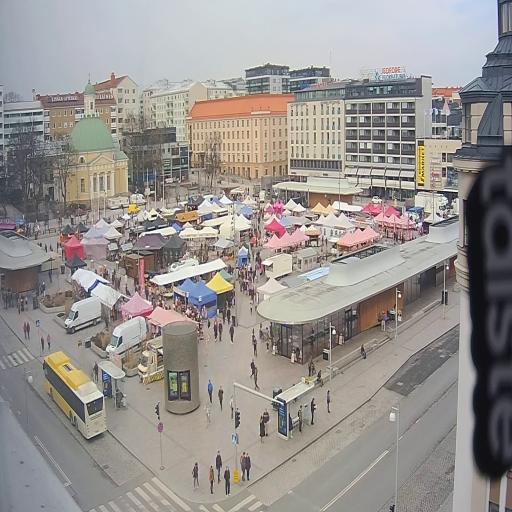bus: (39, 344, 110, 444)
delivery: (102, 308, 150, 364), (62, 294, 107, 337), (410, 192, 448, 220), (130, 191, 150, 206), (124, 201, 140, 218)
